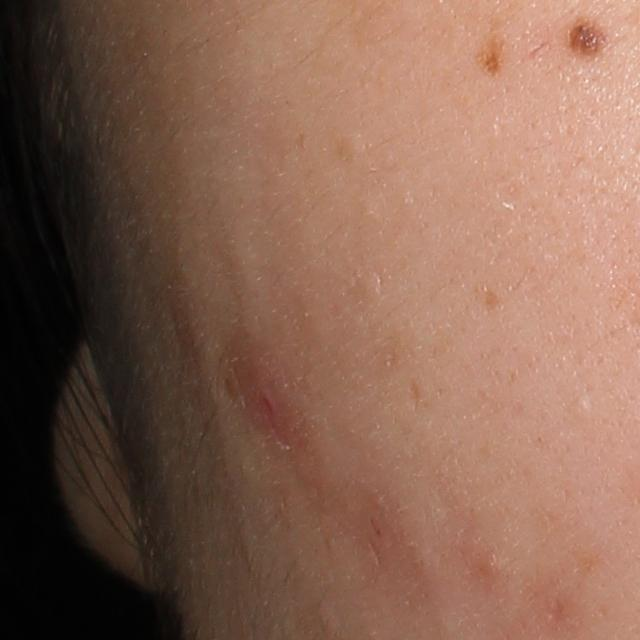comedo: (568, 394, 593, 423)
nevus: (561, 16, 608, 62)
